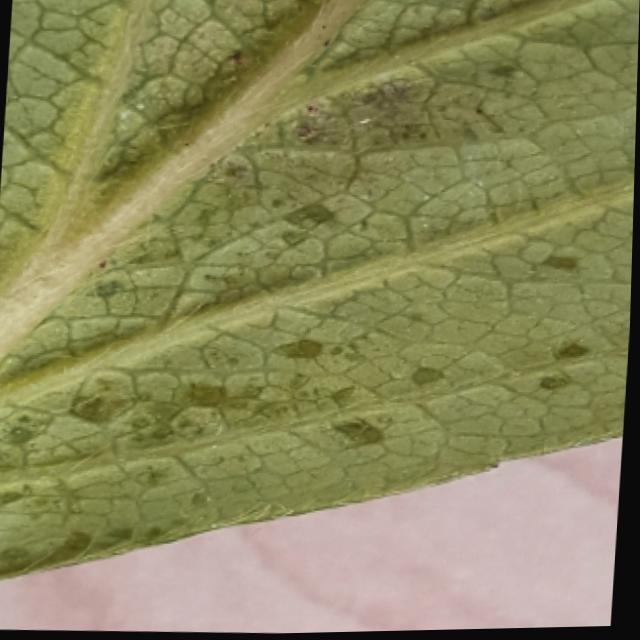Angular Leafspot: (0, 0, 640, 579)
